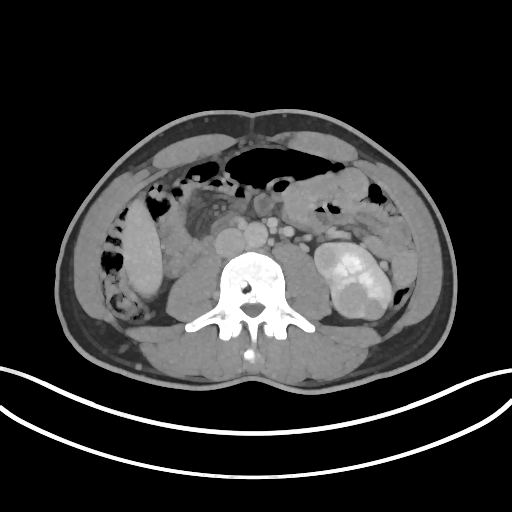Lesion: (363, 298, 385, 324)
